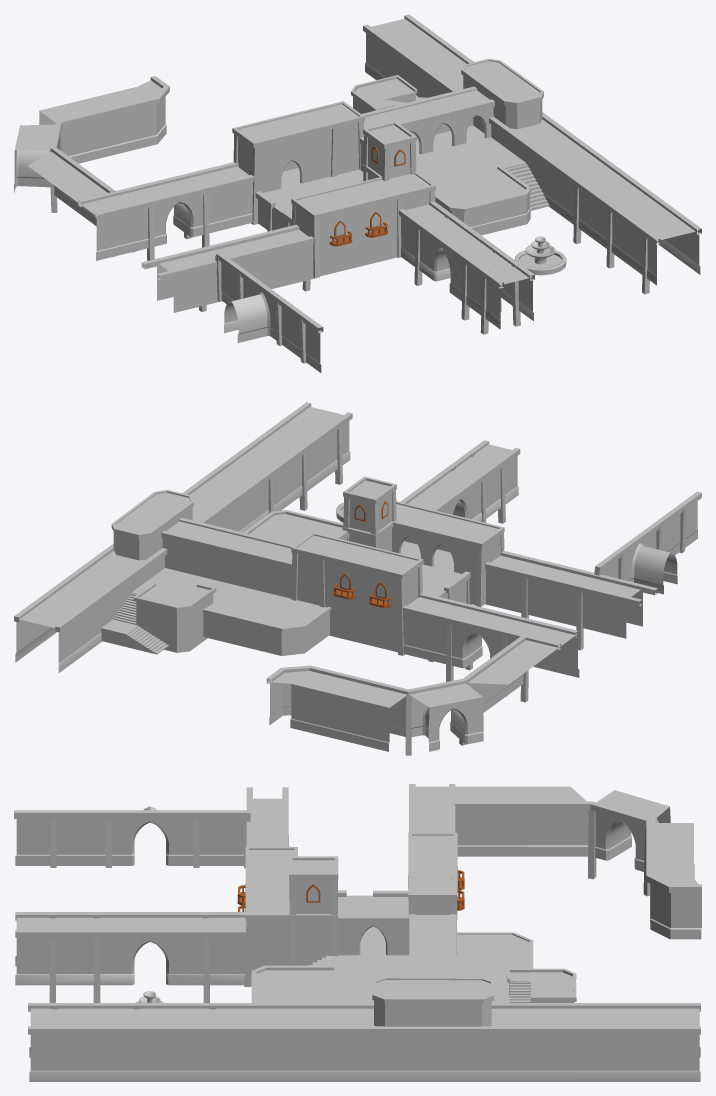
The model's file is level_01.fbx.
3 renders of one model, top to bottom at view 1: azimuth 30°, elevation 25°; view 2: azimuth 150°, elevation 25°; view 3: azimuth 270°, elevation 25°, orthographic. The views are drawn at different scales.
Visible parts, largest first — view 1: Cube.048, Cube.003, Cube.011, Cube.006, Cube.008, Cube, Cube.026, Cube.038, Cube.010, Cube.075, Cube.004, Cube.059 (+17 smaller); view 2: Cube.048, Cube.003, Cube.011, Plane.002, Cube.026, Cube.008, Cube.056, Cube, Cube.038, Cube.006, Cube.010, Cube.075 (+19 smaller); view 3: Cube.003, Cube.048, Cube, Cube.038, Cube.008, Cube.006, Cube.004, Cube.011, Cube.010, Plane.002, Cube.075, Cube.059 (+18 smaller).
Part boxes in pixels (x1=…): Cube.048: x1=14, y1=80, x2=252, y2=260; Cube.003: x1=365, y1=18, x2=700, y2=285; Cube.011: x1=238, y1=90, x2=493, y2=192; Cube.006: x1=258, y1=125, x2=530, y2=235; Cube.008: x1=295, y1=125, x2=429, y2=276; Cube: x1=401, y1=204, x2=533, y2=329; Cube.026: x1=157, y1=229, x2=314, y2=312; Cube.038: x1=221, y1=262, x2=321, y2=372; Cube.010: x1=463, y1=61, x2=542, y2=129; Cube.075: x1=363, y1=24, x2=660, y2=244; Cube.004: x1=404, y1=14, x2=701, y2=234; Cube.059: x1=50, y1=76, x2=169, y2=192; Cube.048: x1=269, y1=597, x2=579, y2=751; Cube.003: x1=15, y1=406, x2=350, y2=672; Cube.011: x1=162, y1=521, x2=418, y2=651; Plane.002: x1=131, y1=568, x2=329, y2=655; Cube.026: x1=485, y1=555, x2=642, y2=638; Cube.008: x1=349, y1=480, x2=500, y2=605; Cube.056: x1=101, y1=586, x2=213, y2=654; Cube: x1=408, y1=444, x2=518, y2=521; Cube.038: x1=602, y1=501, x2=697, y2=594; Cube.006: x1=249, y1=514, x2=466, y2=652; Cube.010: x1=113, y1=492, x2=192, y2=560; Cube.075: x1=55, y1=412, x2=352, y2=632; Cube.003: x1=29, y1=1008, x2=700, y2=1081; Cube.048: x1=415, y1=786, x2=701, y2=939; Cube: x1=15, y1=917, x2=251, y2=985; Cube.038: x1=15, y1=806, x2=243, y2=865; Cube.008: x1=249, y1=850, x2=334, y2=986; Cube.006: x1=256, y1=895, x2=409, y2=1002; Cube.004: x1=28, y1=1026, x2=700, y2=1034; Cube.011: x1=412, y1=835, x2=453, y2=977; Cube.010: x1=374, y1=980, x2=491, y2=1026; Plane.002: x1=456, y1=934, x2=529, y2=1002; Cube.075: x1=28, y1=1003, x2=700, y2=1011; Cube.059: x1=454, y1=801, x2=701, y2=892.
Bounding box in the file's own units: 5452 × 1509 × 6326.
